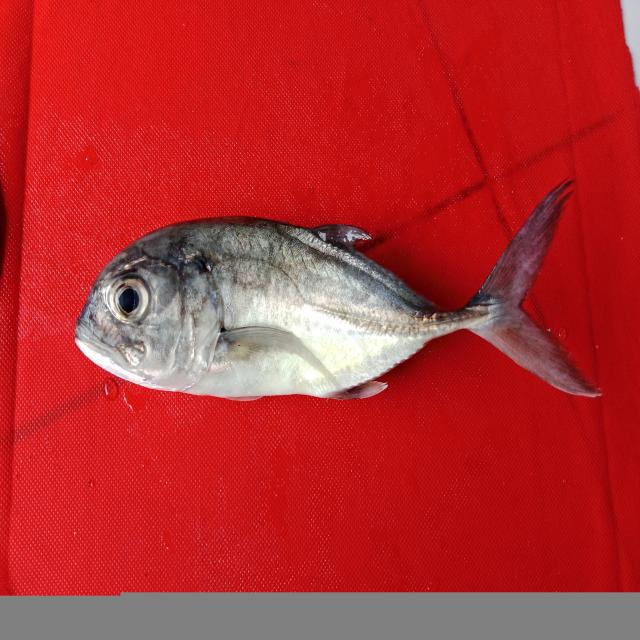ikan: (64, 162, 616, 435)
